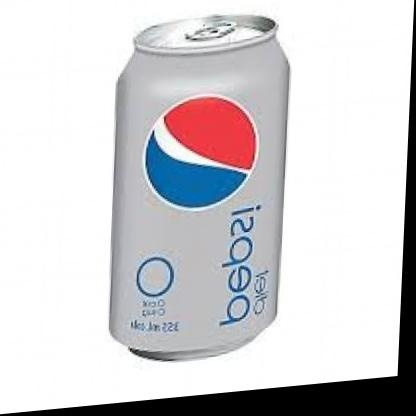trash: (110, 15, 288, 359)
